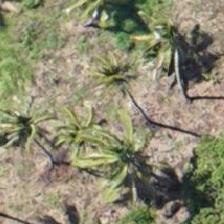coconut_tree: (40, 87, 130, 177), (83, 109, 173, 199), (131, 0, 221, 89)
